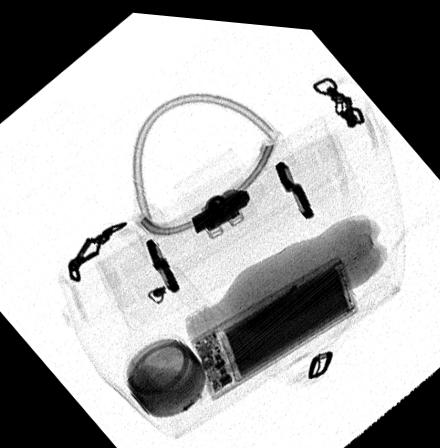Powerbank: (191, 246, 361, 397)
